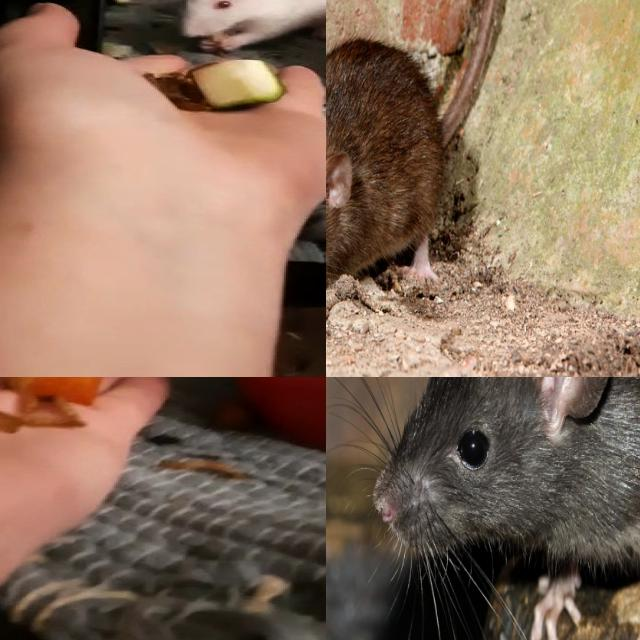rat: (326, 0, 518, 329), (373, 377, 640, 594), (168, 0, 326, 54)
